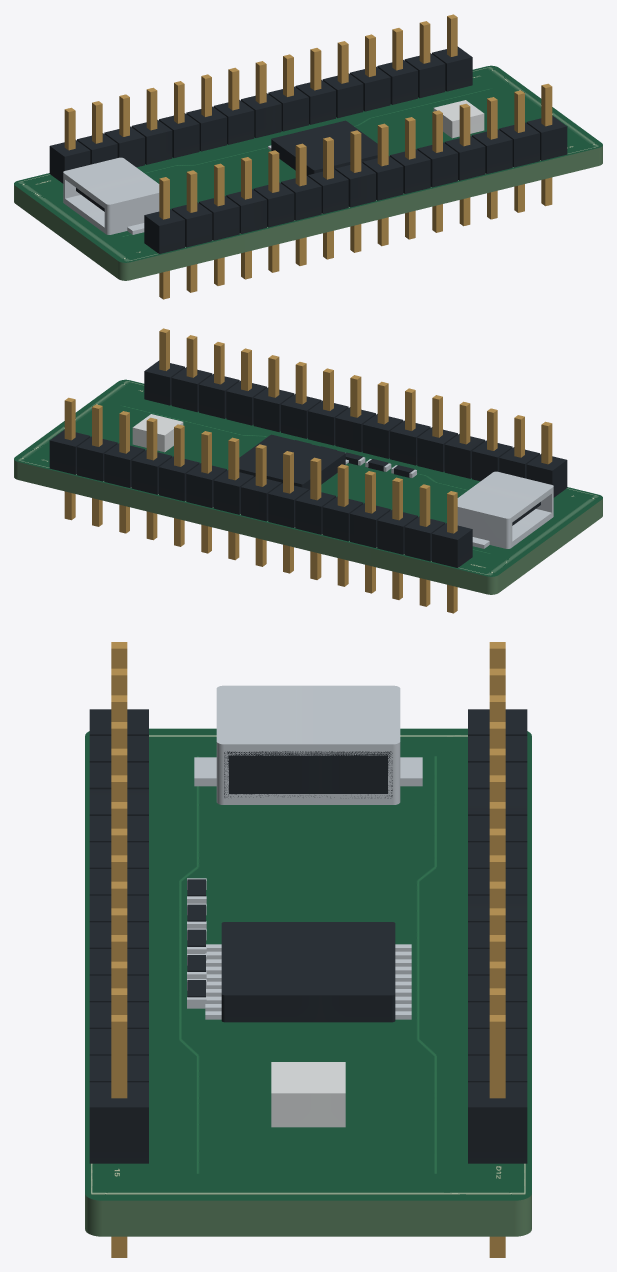
File: Nano-style-CC0.glb
The picture shows the model from 3 angles, top to bottom: view 1: azimuth 30°, elevation 25°; view 2: azimuth 150°, elevation 25°; view 3: azimuth 270°, elevation 25°; orthographic projection. The views are drawn at different scales.
Parts seen in each view (by area): view 1: PCB, USB_metal_shell, MCU, GPIO_insulator_0, GPIO_insulator_5, GPIO_insulator_18, GPIO_insulator_21, GPIO_insulator_25, GPIO_insulator_28, GPIO_insulator_1, GPIO_insulator_2, GPIO_insulator_4 (+52 smaller); view 2: PCB, USB_metal_shell, MCU, GPIO_insulator_15, GPIO_insulator_3, GPIO_insulator_6, GPIO_insulator_10, GPIO_insulator_13, GPIO_insulator_20, GPIO_insulator_4, GPIO_insulator_14, GPIO_insulator_16 (+52 smaller); view 3: PCB, MCU, USB_metal_shell, USB_rear_insulating_web, Reset_button, GPIO_insulator_14, GPIO_insulator_29, GPIO_pin_14, GPIO_pin_29, GPIO_insulator_2, GPIO_insulator_7, GPIO_insulator_10 (+25 smaller).
Part boxes in pixels (bbox=[...]): PCB: bbox=[14, 65, 602, 280]; USB_metal_shell: bbox=[63, 157, 159, 234]; MCU: bbox=[271, 120, 377, 175]; GPIO_insulator_0: bbox=[144, 209, 184, 253]; GPIO_insulator_5: bbox=[281, 176, 321, 220]; GPIO_insulator_18: bbox=[131, 120, 172, 164]; GPIO_insulator_21: bbox=[213, 100, 254, 144]; GPIO_insulator_25: bbox=[322, 73, 363, 118]; GPIO_insulator_28: bbox=[404, 53, 445, 98]; GPIO_insulator_1: bbox=[171, 202, 212, 247]; GPIO_insulator_2: bbox=[199, 196, 239, 240]; GPIO_insulator_4: bbox=[253, 182, 294, 227]; PCB: bbox=[14, 379, 602, 594]; USB_metal_shell: bbox=[457, 471, 553, 548]; MCU: bbox=[239, 434, 345, 489]; GPIO_insulator_15: bbox=[432, 523, 472, 567]; GPIO_insulator_3: bbox=[444, 434, 485, 478]; GPIO_insulator_6: bbox=[362, 414, 403, 458]; GPIO_insulator_10: bbox=[253, 387, 294, 432]; GPIO_insulator_13: bbox=[171, 367, 212, 412]; GPIO_insulator_20: bbox=[295, 490, 335, 534]; GPIO_insulator_4: bbox=[417, 427, 457, 471]; GPIO_insulator_14: bbox=[144, 360, 184, 405]; GPIO_insulator_16: bbox=[404, 516, 445, 561]; PCB: bbox=[85, 728, 531, 1236]; MCU: bbox=[221, 922, 395, 1022]; USB_metal_shell: bbox=[216, 685, 400, 804]; USB_rear_insulating_web: bbox=[224, 751, 392, 798]; Reset_button: bbox=[271, 1062, 345, 1127]; GPIO_insulator_14: bbox=[89, 1082, 148, 1163]; GPIO_insulator_29: bbox=[468, 1082, 527, 1163]; GPIO_pin_14: bbox=[111, 1015, 127, 1257]; GPIO_pin_29: bbox=[489, 1015, 505, 1257]; GPIO_insulator_2: bbox=[89, 762, 148, 789]; GPIO_insulator_7: bbox=[89, 895, 148, 922]; GPIO_insulator_10: bbox=[89, 975, 148, 1002].
Size of the model in its own units: 0.045 by 0.0105 by 0.018.
6 materials, 6 textured.
